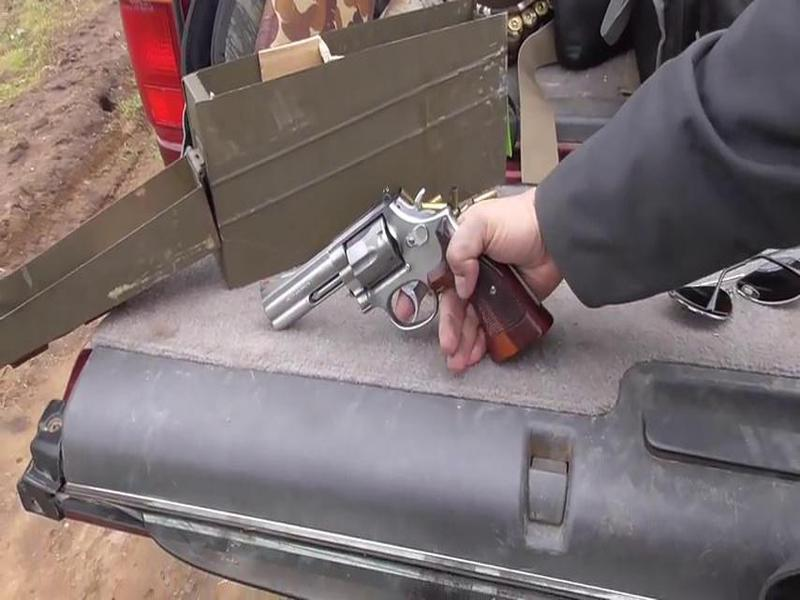Revolver: (257, 174, 567, 399)
